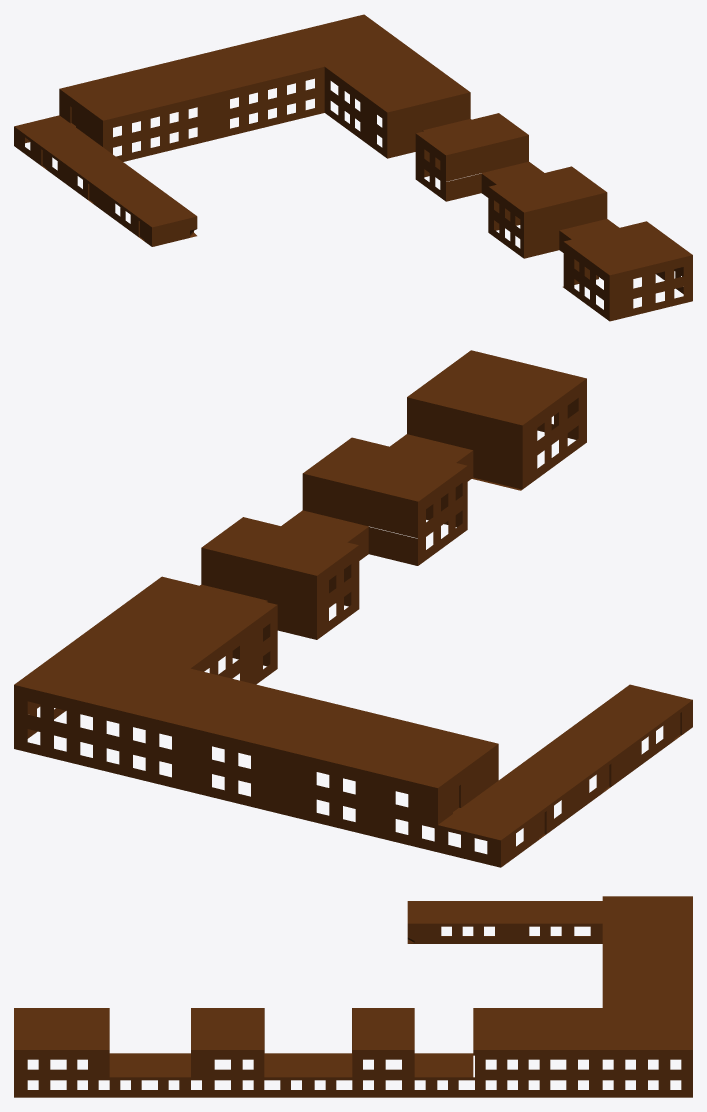
Rendered from UPPER APARTMENT.fbx.
3 renders of one model, top to bottom at view 1: azimuth 30°, elevation 25°; view 2: azimuth 150°, elevation 25°; view 3: azimuth 270°, elevation 25°, orthographic. The views are drawn at different scales.
Visible parts, largest first — view 1: Khrushchyovka.014; view 2: Khrushchyovka.014; view 3: Khrushchyovka.014.
Boxes of the visible parts, x1,y1,x2,y2 form: Khrushchyovka.014: (14,14,692,321); Khrushchyovka.014: (14,350,692,867); Khrushchyovka.014: (14,896,692,1097).
Bounding box in the file's own units: 5050 × 636 × 8212.
